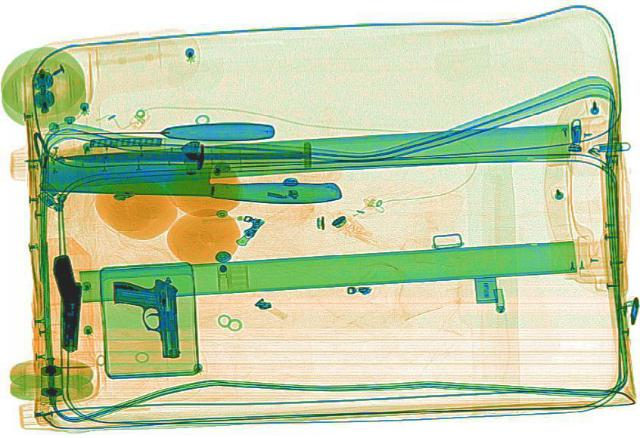Gun: (110, 275, 180, 356), (48, 252, 86, 351)
Knife: (37, 155, 341, 203), (44, 120, 272, 141), (61, 148, 305, 161)
